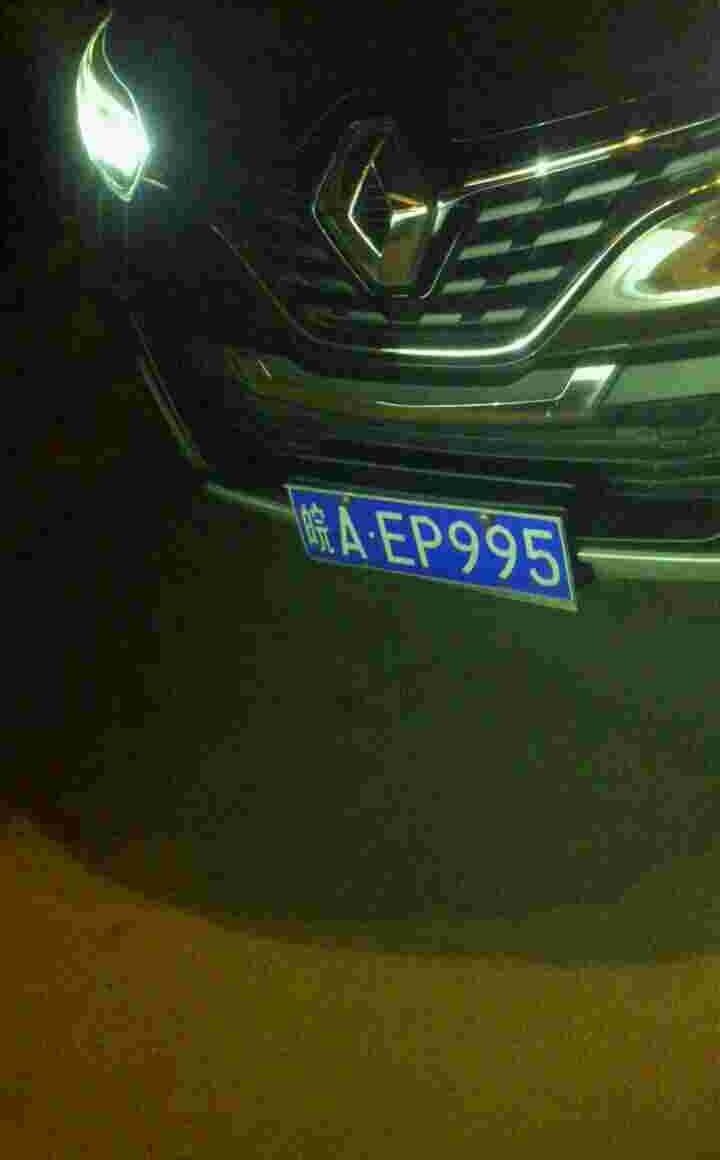license_plate: (292, 482, 582, 602)
